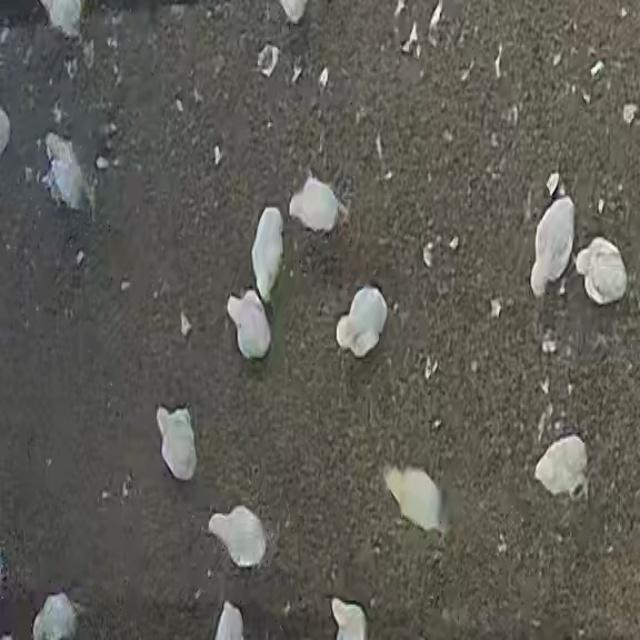chicken: (529, 191, 577, 297), (332, 280, 392, 361), (151, 399, 203, 484), (384, 464, 445, 534), (533, 431, 590, 500), (207, 505, 266, 569), (224, 288, 274, 363), (42, 134, 88, 212), (252, 202, 287, 302), (574, 237, 625, 305), (288, 174, 344, 234)
